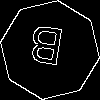B: (25, 25, 66, 75)
